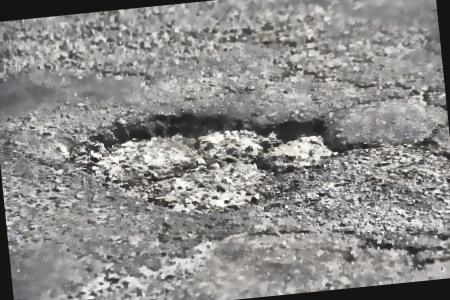pothole: (63, 93, 357, 229)
